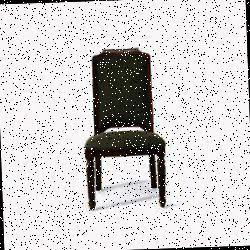Silla: (79, 48, 167, 213)
